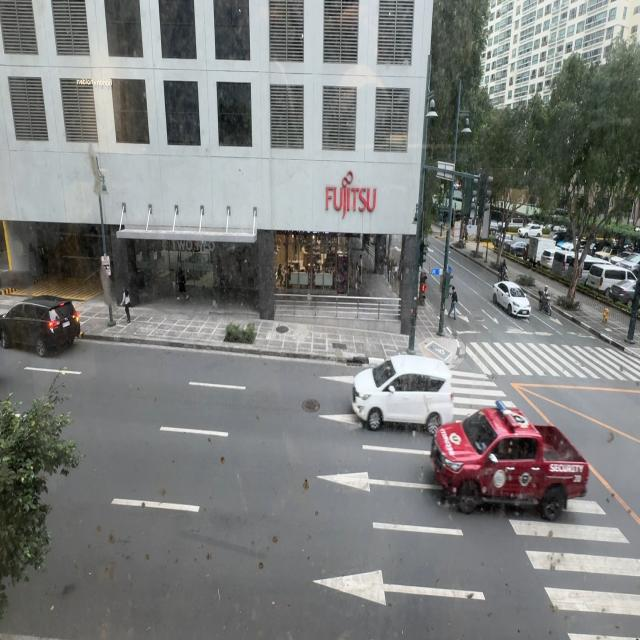jaywalking: (448, 285, 458, 319)
pedestrain: (119, 286, 131, 324)
